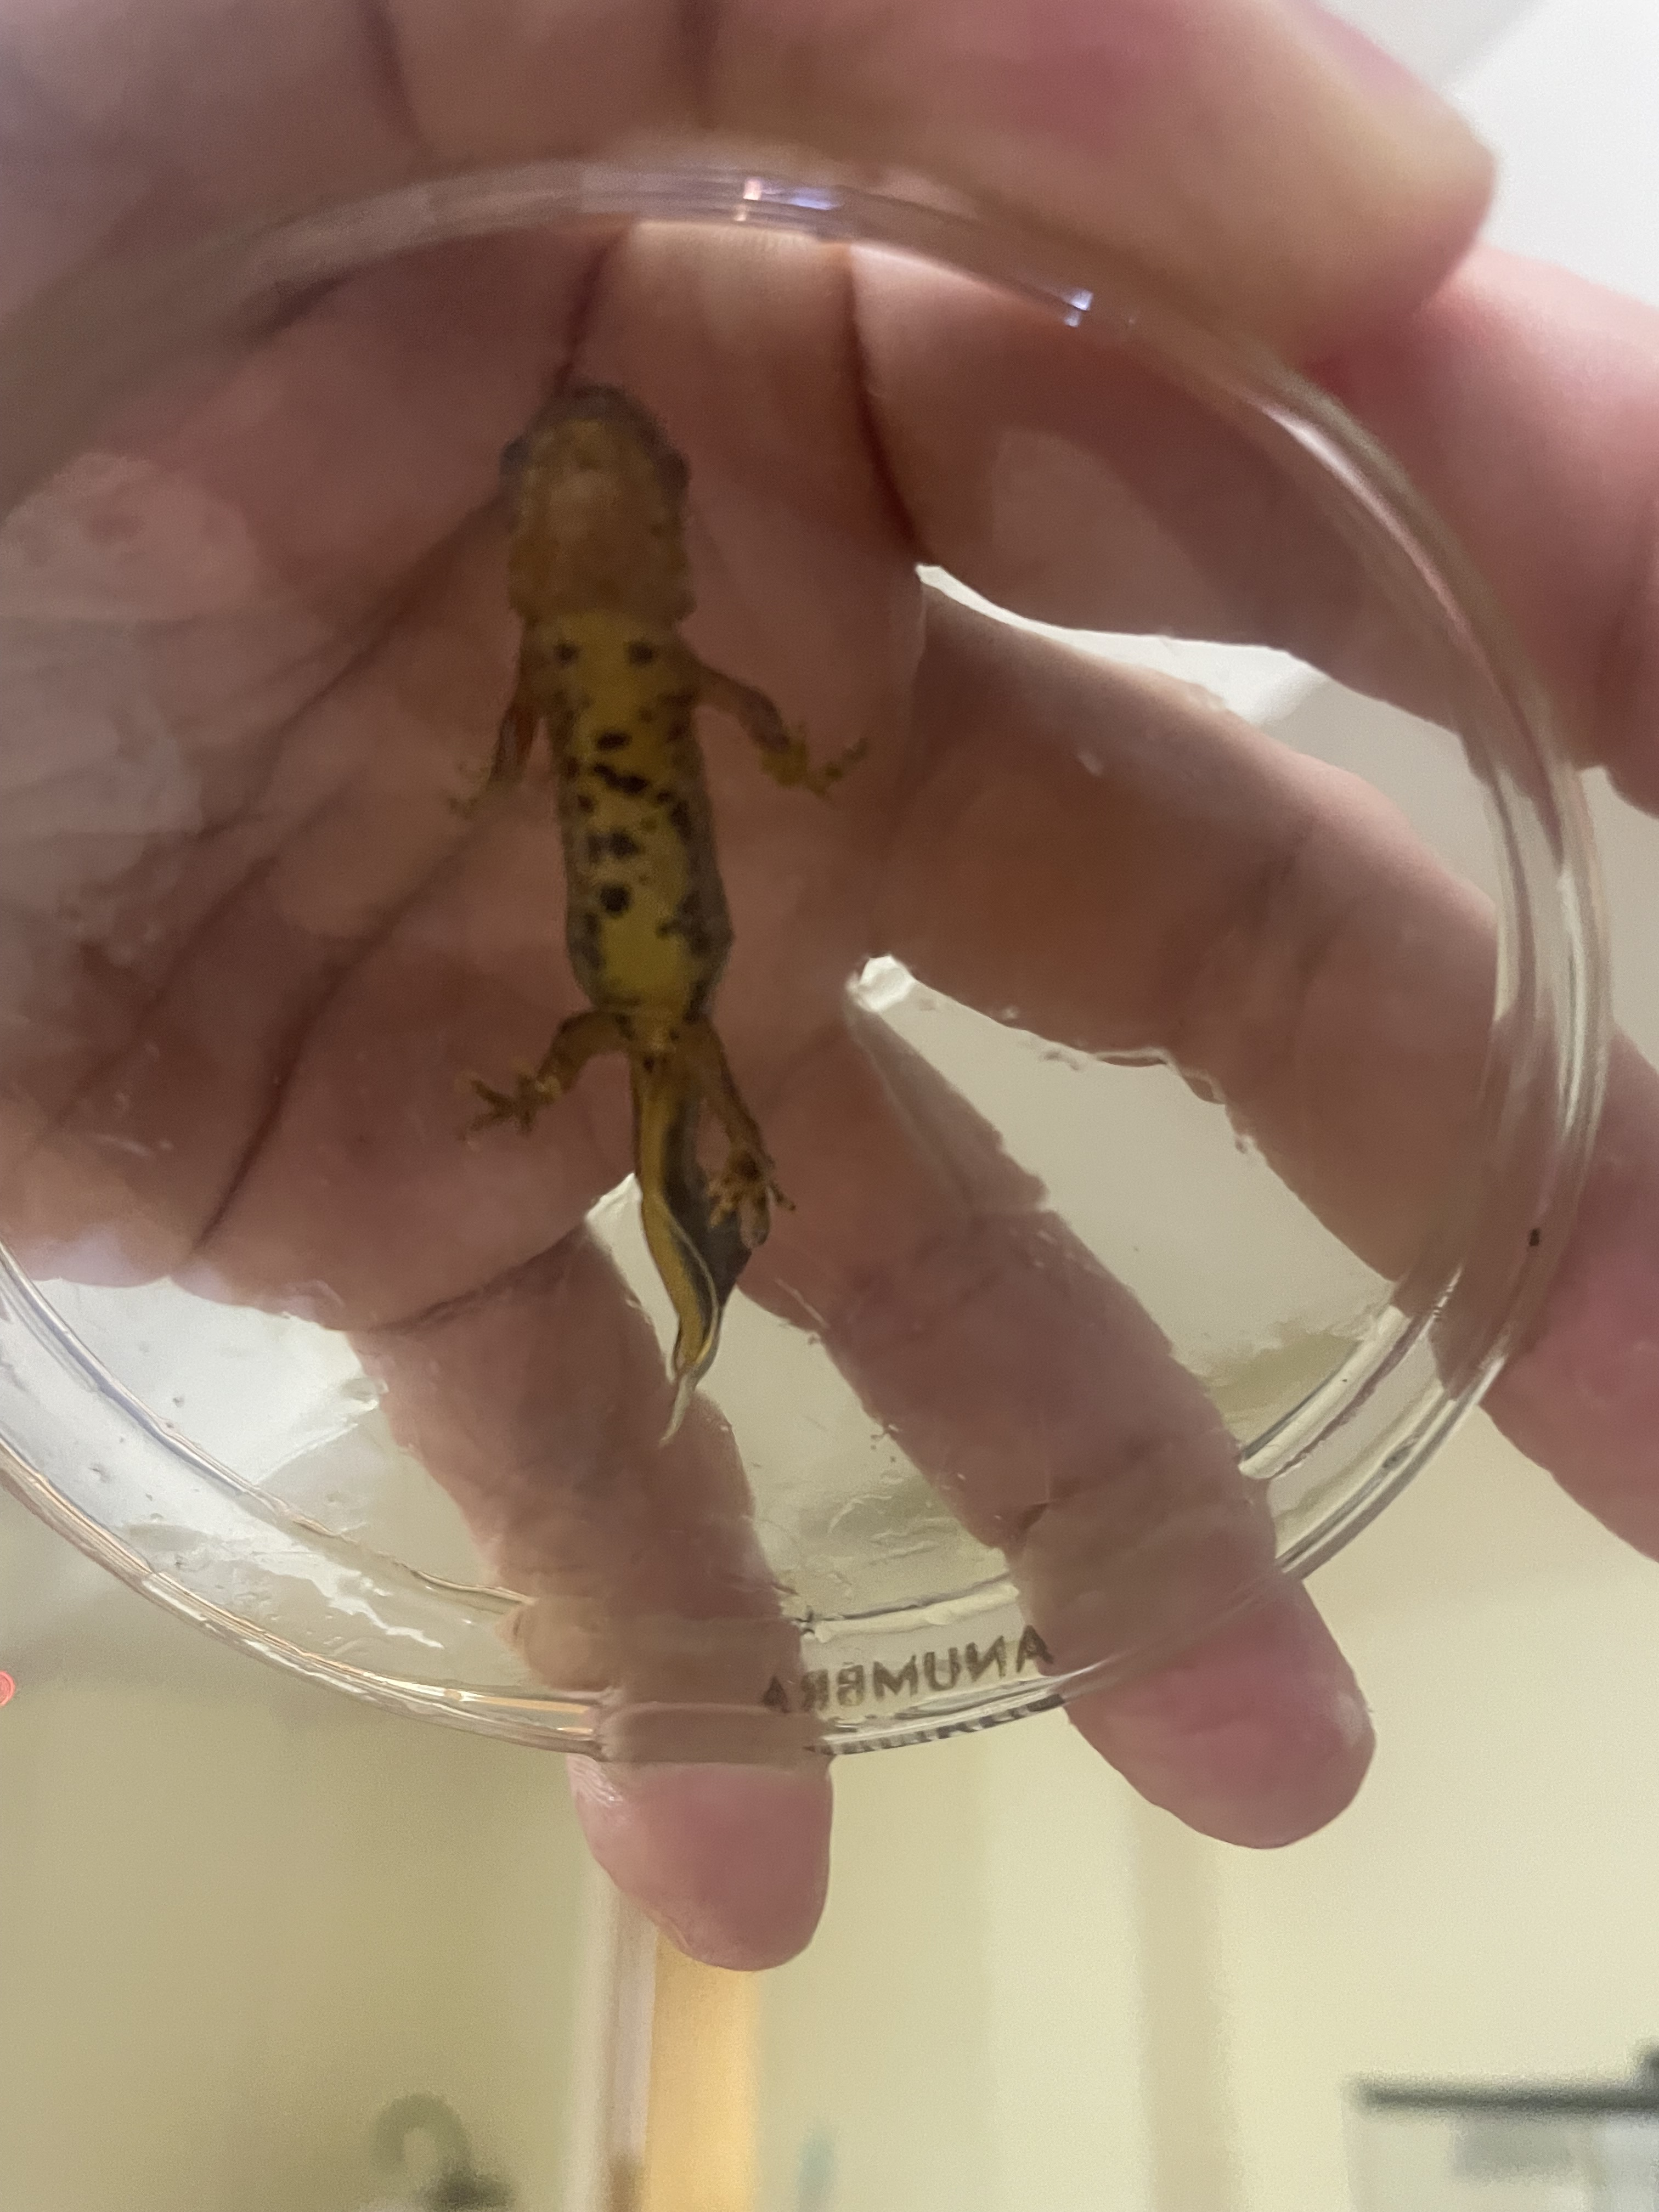Karelin_newt: (542, 704, 732, 1012)
